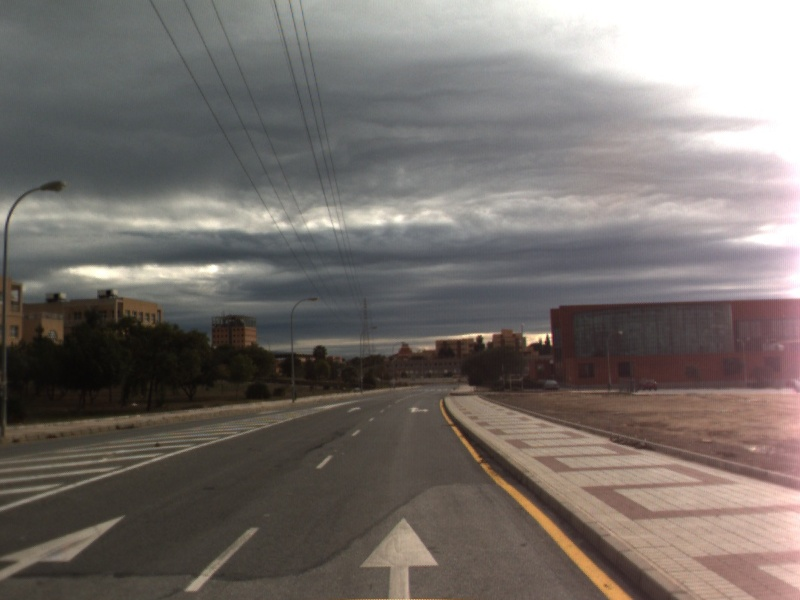STRAIGHT: (1, 513, 127, 583), (357, 514, 441, 600), (346, 405, 363, 414)
STRAIGHT_RIGHT: (406, 404, 431, 415)
